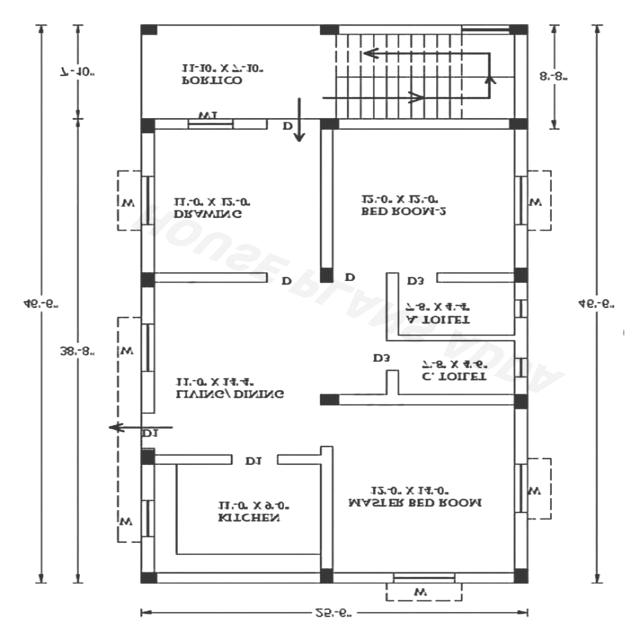Blueprint: (123, 10, 550, 598)
column: (509, 266, 532, 286), (504, 116, 532, 132), (510, 566, 532, 586), (137, 270, 159, 290), (316, 566, 337, 586), (315, 117, 343, 132), (504, 23, 534, 37), (137, 447, 158, 467), (511, 392, 531, 412), (138, 116, 158, 135), (316, 22, 342, 36), (316, 267, 336, 285), (318, 393, 342, 407), (138, 570, 160, 584), (138, 22, 159, 36)
wall: (154, 568, 324, 584), (337, 393, 518, 408), (318, 128, 336, 270), (336, 118, 512, 132), (318, 444, 334, 572), (336, 22, 466, 36), (152, 270, 272, 284), (512, 34, 530, 120), (384, 333, 518, 343), (153, 452, 235, 467), (384, 271, 402, 337), (435, 271, 517, 285), (512, 510, 530, 570), (331, 570, 398, 586), (136, 368, 158, 416), (138, 222, 158, 274), (138, 285, 160, 328), (512, 409, 528, 467), (512, 223, 532, 269), (512, 129, 530, 179), (455, 572, 517, 586), (138, 130, 156, 178), (137, 462, 158, 502), (138, 535, 158, 574), (513, 316, 531, 359), (276, 453, 326, 467), (230, 116, 270, 132), (383, 370, 403, 398), (152, 118, 191, 132), (512, 282, 532, 302), (512, 376, 530, 396)
